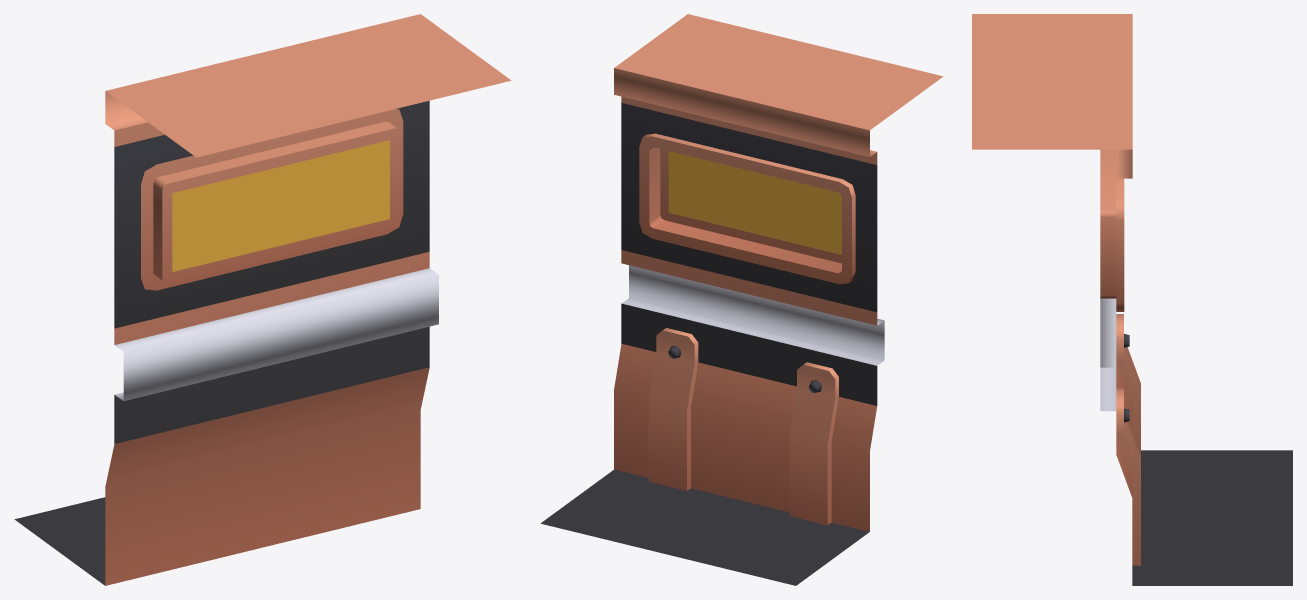
The model's file is structure-window-wide.obj.
3 renders of one model, left to right at view 1: azimuth 30°, elevation 25°; view 2: azimuth 150°, elevation 25°; view 3: azimuth 270°, elevation 25°, orthographic. The views are drawn at different scales.
Visible parts, largest first — view 1: structure-window-wide; view 2: structure-window-wide; view 3: structure-window-wide.
Part boxes in pixels (x1,y1,x2,y2): structure-window-wide: (14,14,511,585); structure-window-wide: (540,14,943,585); structure-window-wide: (972,14,1292,585).
Bounding box in the file's own units: 2 × 3 × 2.
